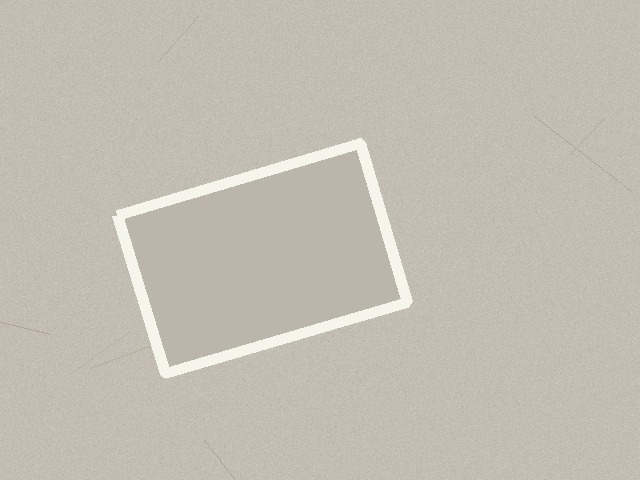parking_area: (117, 143, 407, 373)
